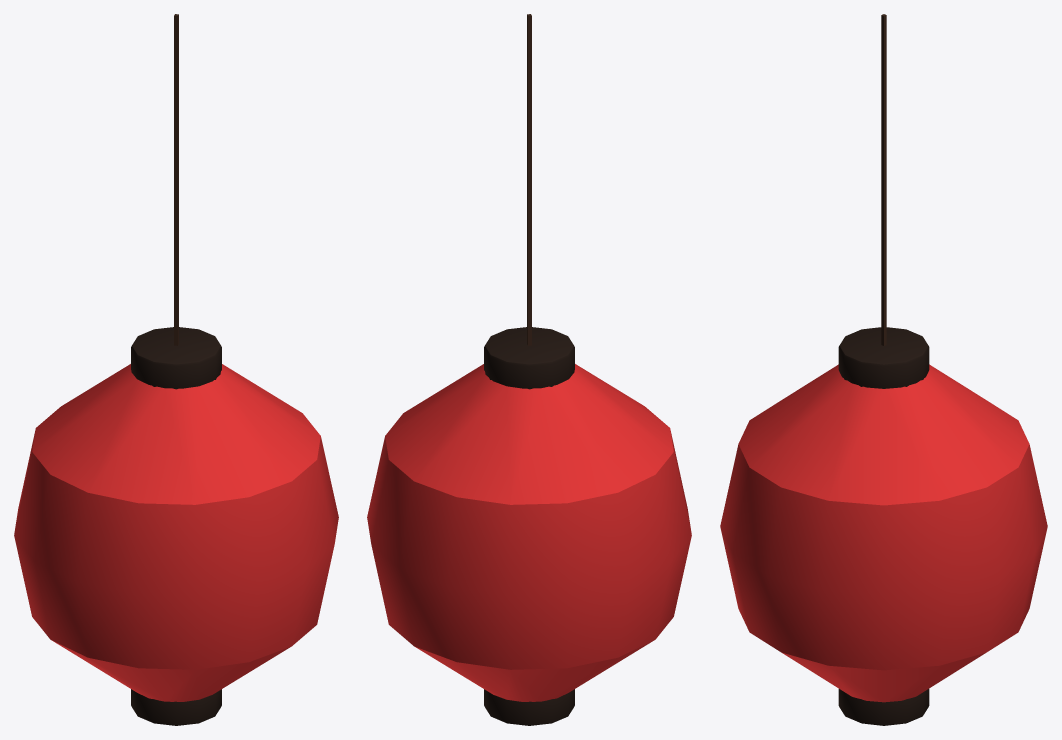
Rendered from HangZen.fbx.
3 renders of one model, left to right at view 1: azimuth 30°, elevation 25°; view 2: azimuth 150°, elevation 25°; view 3: azimuth 270°, elevation 25°, orthographic.
Visible parts, largest first — view 1: HangZen; view 2: HangZen; view 3: HangZen.
Boxes of the visible parts, x1,y1,x2,y2 form: HangZen: [14, 14, 338, 725]; HangZen: [367, 14, 691, 725]; HangZen: [720, 14, 1047, 725].
Bounding box in the file's own units: 360 × 840 × 360.
